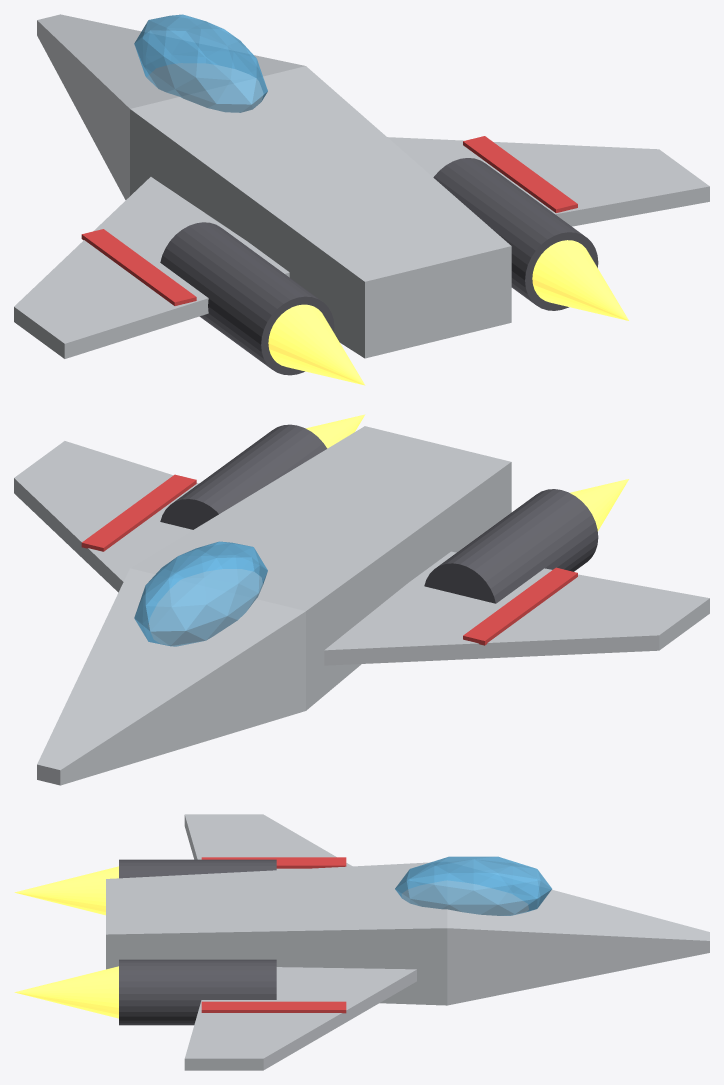
File: spaceship.glb
3 renders of one model, top to bottom at view 1: azimuth 30°, elevation 25°; view 2: azimuth 150°, elevation 25°; view 3: azimuth 270°, elevation 25°, orthographic. The views are drawn at different scales.
Parts seen in each view (by area): view 1: Hull, Wings, Engine_L, Cockpit, Engine_R, Flame_L, Flame_R, Stripe_L, Stripe_R; view 2: Hull, Wings, Engine_L, Cockpit, Engine_R, Stripe_R, Stripe_L, Flame_L, Flame_R; view 3: Hull, Wings, Engine_R, Cockpit, Flame_R, Engine_L, Flame_L, Stripe_R, Stripe_L.
Boxes of the visible parts, x1,y1,x2,y2 form: Hull: (37,14,511,358); Wings: (14,137,709,358); Engine_L: (160,222,334,375); Cockpit: (134,14,267,112); Engine_R: (433,158,598,310); Flame_L: (268,304,365,385); Flame_R: (532,240,628,320); Stripe_L: (81,229,196,305); Stripe_R: (463,136,577,212); Hull: (37,426,511,785); Wings: (14,441,709,665); Engine_L: (424,489,598,603); Cockpit: (134,541,267,646); Engine_R: (160,424,327,529); Stripe_R: (81,474,196,551); Stripe_L: (463,567,577,645); Flame_L: (570,479,628,531); Flame_R: (306,414,365,448); Hull: (106,862,709,1005); Wings: (184,814,416,1070); Engine_R: (119,959,276,1025); Cockpit: (395,856,551,915); Flame_R: (14,966,118,1018); Engine_L: (119,859,276,878); Flame_L: (14,866,118,915); Stripe_R: (201,1001,346,1013); Stripe_L: (201,857,346,868).
Bounding box in the file's own units: 4.4 × 0.95 × 5.3.
